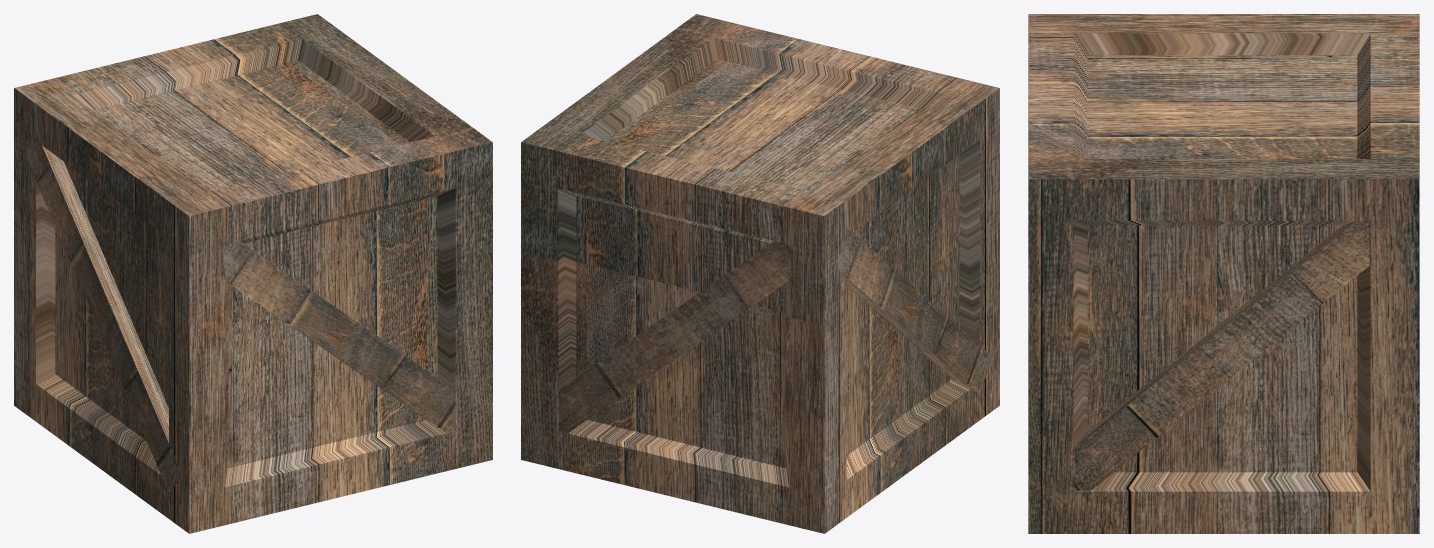
The model's file is Crate.fbx.
The picture shows the model from 3 angles, left to right: view 1: azimuth 30°, elevation 25°; view 2: azimuth 150°, elevation 25°; view 3: azimuth 270°, elevation 25°; orthographic projection. The views are drawn at different scales.
Parts seen in each view (by area): view 1: crateBase, crateSupport2, crateSupport1; view 2: crateBase, crateSupport3, crateSupport1; view 3: crateBase, crateSupport.
Boxes of the visible parts, <box> form: crateBase: <box>14,14,492,533</box>; crateSupport2: <box>225,241,455,433</box>; crateSupport1: <box>24,136,182,492</box>; crateBase: <box>521,14,999,533</box>; crateSupport3: <box>558,241,788,433</box>; crateSupport1: <box>835,229,992,394</box>; crateBase: <box>1028,14,1419,533</box>; crateSupport: <box>1074,221,1369,490</box>.
Bounding box in the file's own units: 0.7001 × 0.7 × 0.7.
